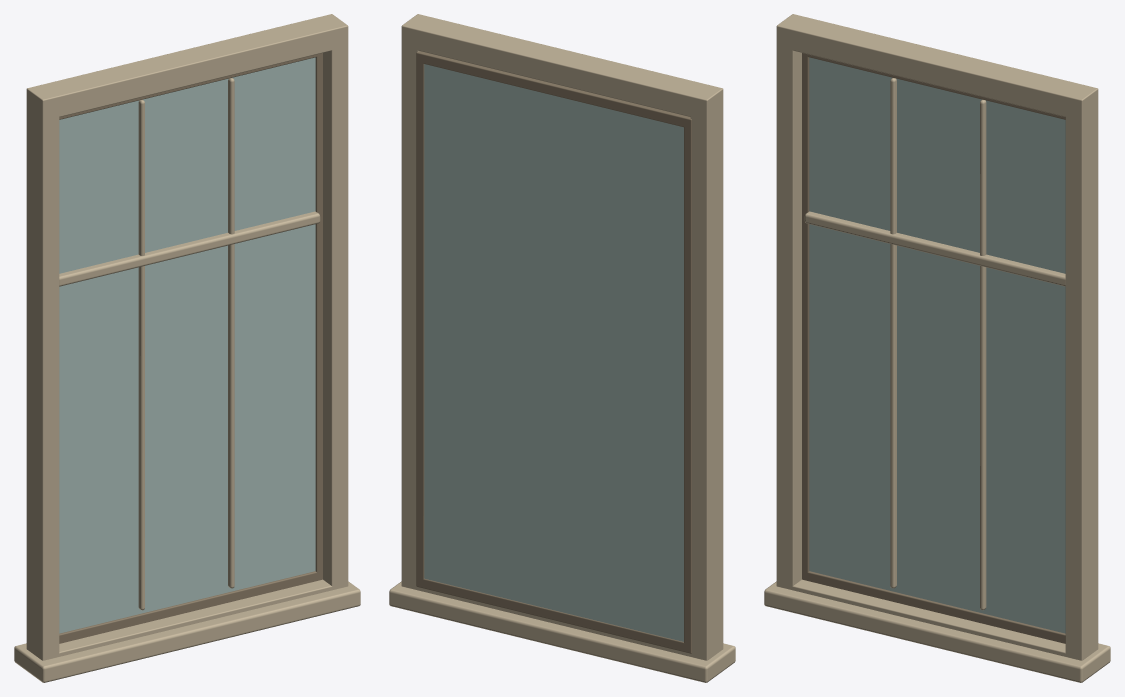
Rendered from bigwindow.glb.
3 renders of one model, left to right at view 1: azimuth 30°, elevation 25°; view 2: azimuth 150°, elevation 25°; view 3: azimuth 330°, elevation 25°, orthographic.
Visible parts, largest first — view 1: inner-window-reveal-inset, outer-window-moulding-stile--1, outer-window-moulding-stile-1, outer-window-moulding-rail-1, window-sill, inner-window-reveal-stile-1, outer-window-moulding-rail--1, mullion-0-25, transom, mullion--0-25, inner-window-reveal-rail--1, inner-window-reveal-rail-1; view 2: inner-window-reveal-inset, outer-window-moulding-stile--1, outer-window-moulding-rail-1, outer-window-moulding-stile-1, window-sill, inner-window-reveal-stile-1, inner-window-reveal-stile--1, inner-window-reveal-rail-1, inner-window-reveal-rail--1, outer-window-moulding-rail--1; view 3: inner-window-reveal-inset, outer-window-moulding-stile-1, outer-window-moulding-stile--1, outer-window-moulding-rail-1, window-sill, inner-window-reveal-stile--1, outer-window-moulding-rail--1, mullion--0-25, transom, mullion-0-25, inner-window-reveal-rail--1, inner-window-reveal-rail-1.
Part boxes in pixels (box(x1,y1,x2,y2)): inner-window-reveal-inset: box(59, 57, 315, 633); outer-window-moulding-stile--1: box(26, 86, 59, 660); outer-window-moulding-stile-1: box(323, 26, 348, 587); outer-window-moulding-rail-1: box(26, 14, 348, 120); window-sill: box(14, 581, 360, 682); inner-window-reveal-stile-1: box(315, 53, 322, 580); outer-window-moulding-rail--1: box(26, 579, 347, 660); mullion-0-25: box(228, 78, 234, 588); transom: box(59, 211, 320, 286); mullion--0-25: box(138, 99, 144, 610); inner-window-reveal-rail--1: box(59, 571, 322, 643); inner-window-reveal-rail-1: box(59, 53, 322, 119); inner-window-reveal-inset: box(424, 64, 683, 641); outer-window-moulding-stile--1: box(690, 85, 723, 660); outer-window-moulding-rail-1: box(401, 14, 723, 119); outer-window-moulding-stile-1: box(401, 26, 419, 589); window-sill: box(389, 581, 735, 682); inner-window-reveal-stile-1: box(416, 52, 424, 586); inner-window-reveal-stile--1: box(684, 117, 691, 653); inner-window-reveal-rail-1: box(416, 51, 691, 127); inner-window-reveal-rail--1: box(416, 578, 691, 653); outer-window-moulding-rail--1: box(402, 583, 723, 660); inner-window-reveal-inset: box(809, 57, 1065, 633); outer-window-moulding-stile-1: box(1065, 85, 1098, 660); outer-window-moulding-stile--1: box(776, 26, 801, 589); outer-window-moulding-rail-1: box(776, 14, 1098, 119); window-sill: box(764, 581, 1110, 682); inner-window-reveal-stile--1: box(802, 53, 809, 580); outer-window-moulding-rail--1: box(777, 579, 1098, 660); mullion--0-25: box(890, 78, 896, 588); transom: box(804, 211, 1065, 286); mullion-0-25: box(980, 99, 986, 610); inner-window-reveal-rail--1: box(803, 571, 1065, 643); inner-window-reveal-rail-1: box(802, 53, 1065, 119).
Size of the model in its own units: 1.77 by 3.06 by 0.288.
